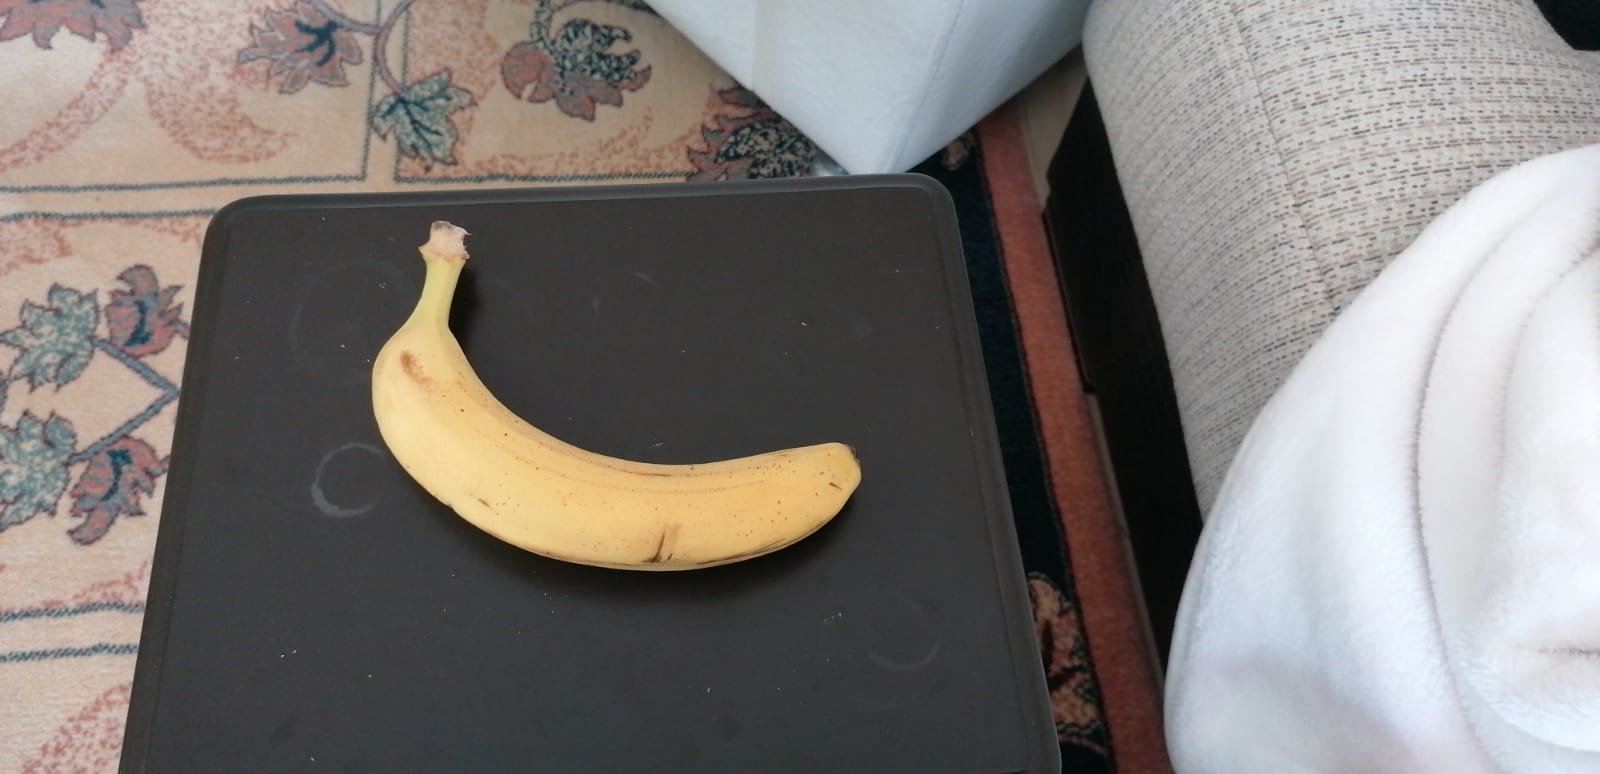muz: (367, 218, 865, 577)
